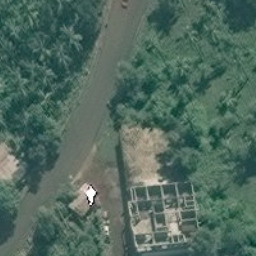buildings: (125, 173, 203, 250), (63, 183, 102, 223)
